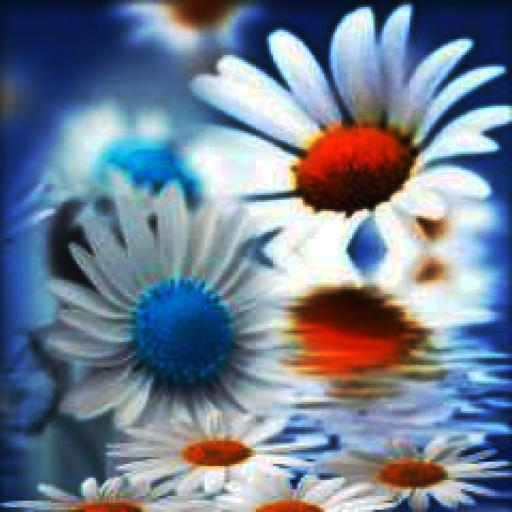daisy: (200, 11, 512, 236), (60, 200, 284, 436), (106, 413, 316, 494), (320, 436, 512, 512), (224, 475, 386, 512)
